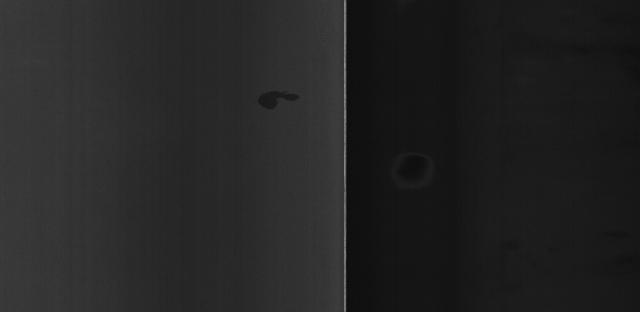oil_spot: (249, 82, 307, 118)
